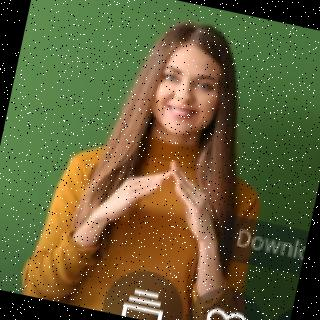House: (108, 153, 215, 235)
